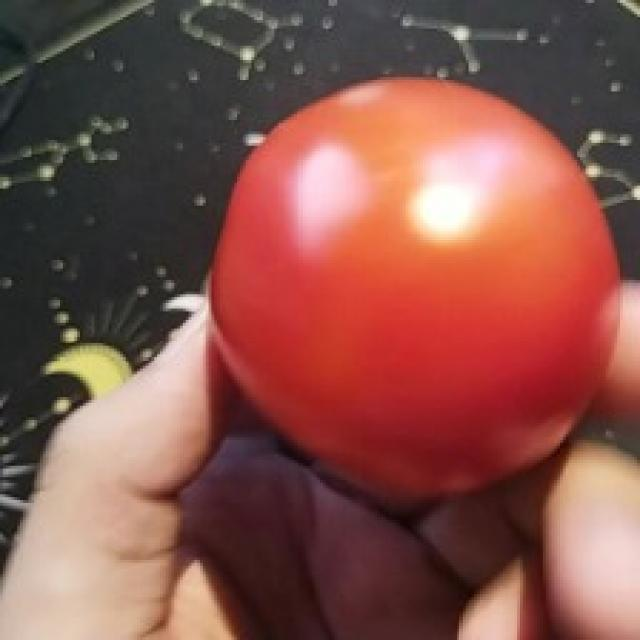Fresh Tomato: (194, 65, 624, 518)
